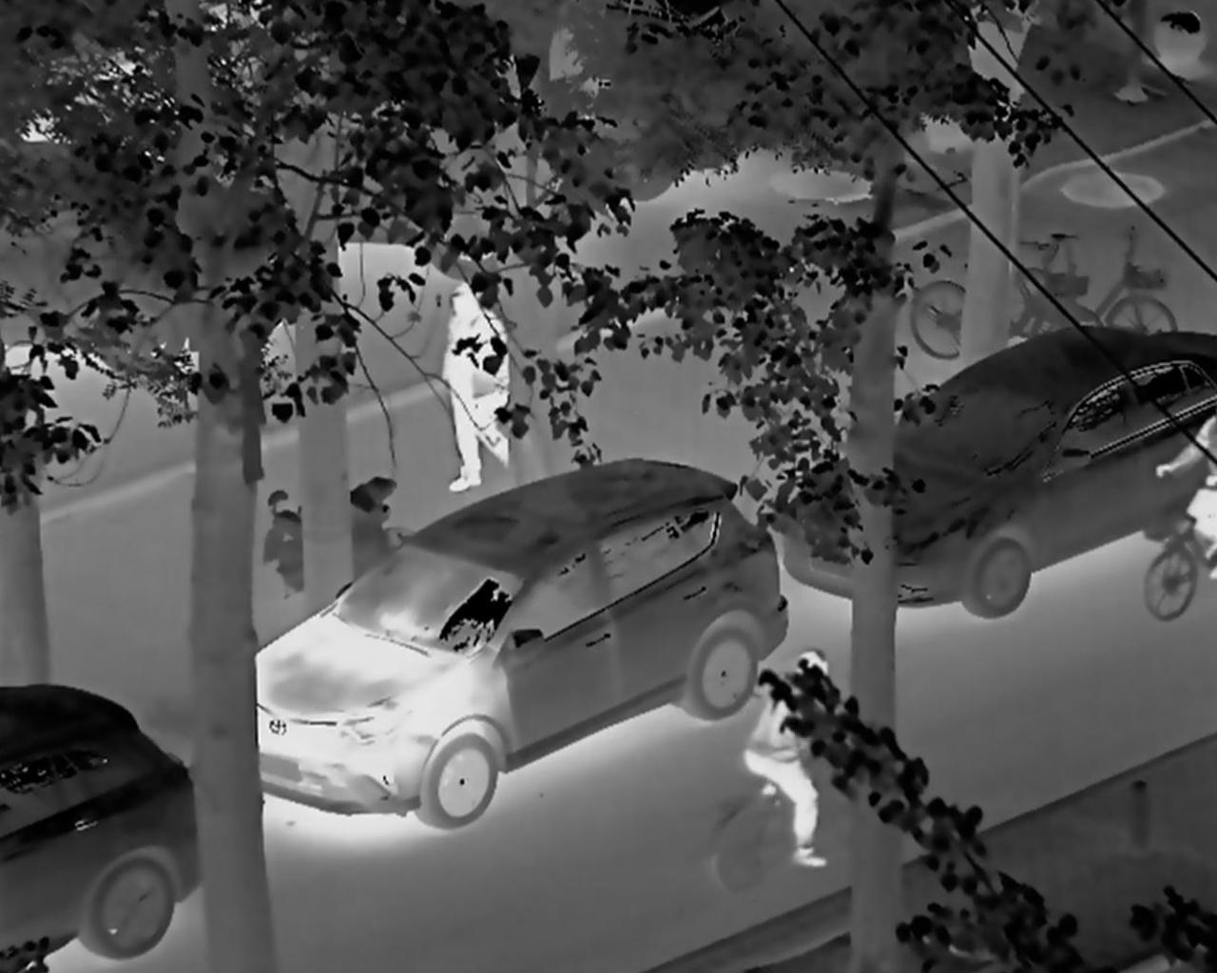person: (732, 639, 860, 878), (431, 249, 523, 498)
